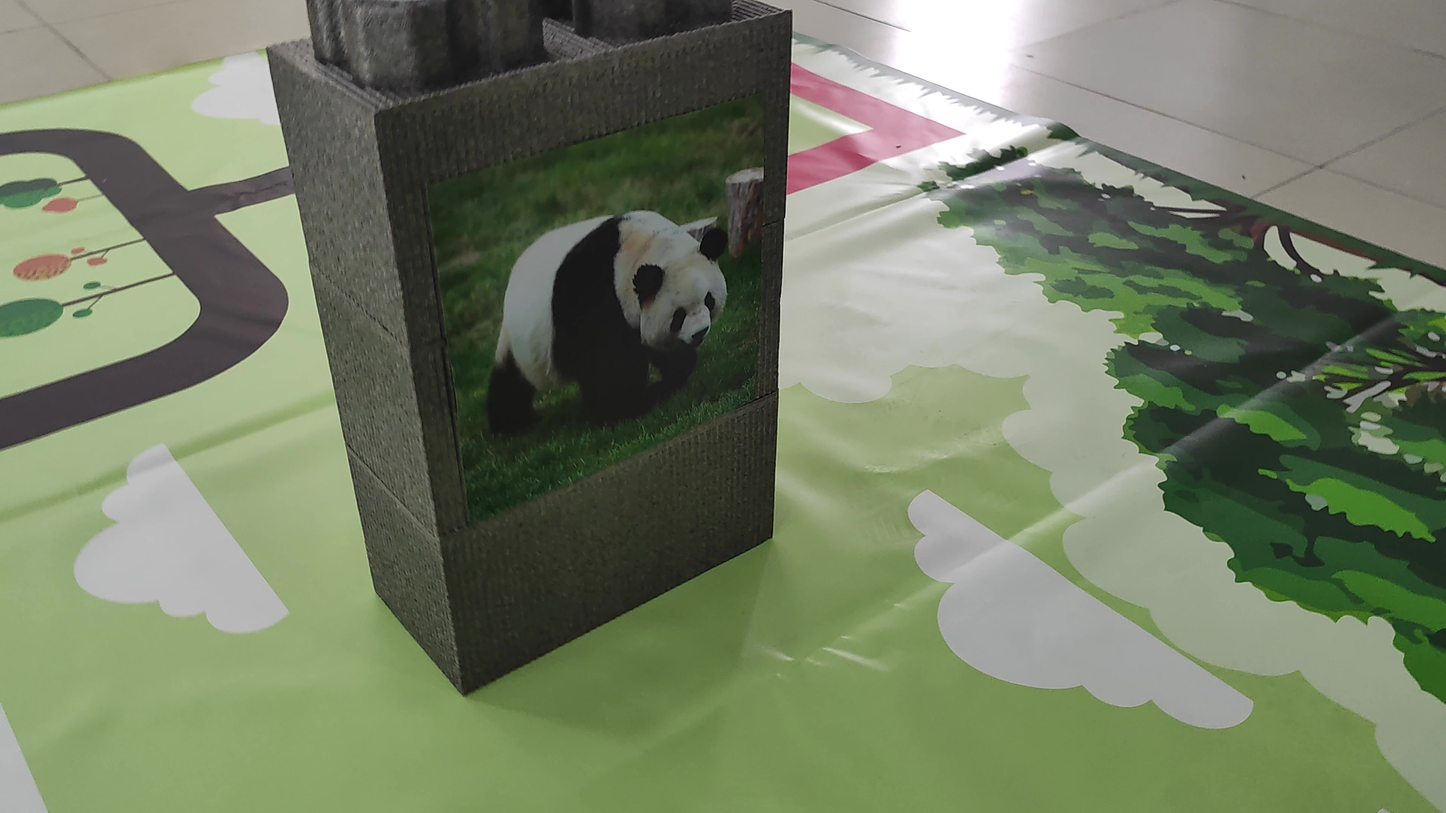panda: (457, 171, 751, 454)
